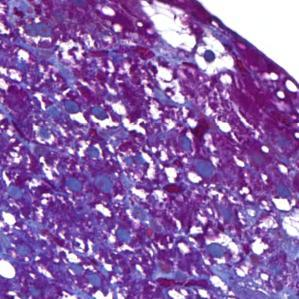ballooning: (139, 4, 199, 53), (192, 33, 237, 76)
